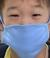with_mask: (1, 2, 50, 58)
